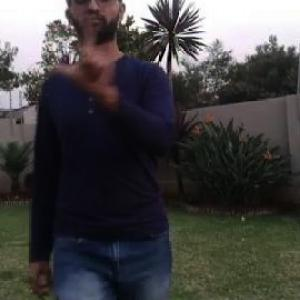land_hand: (50, 11, 119, 93)
